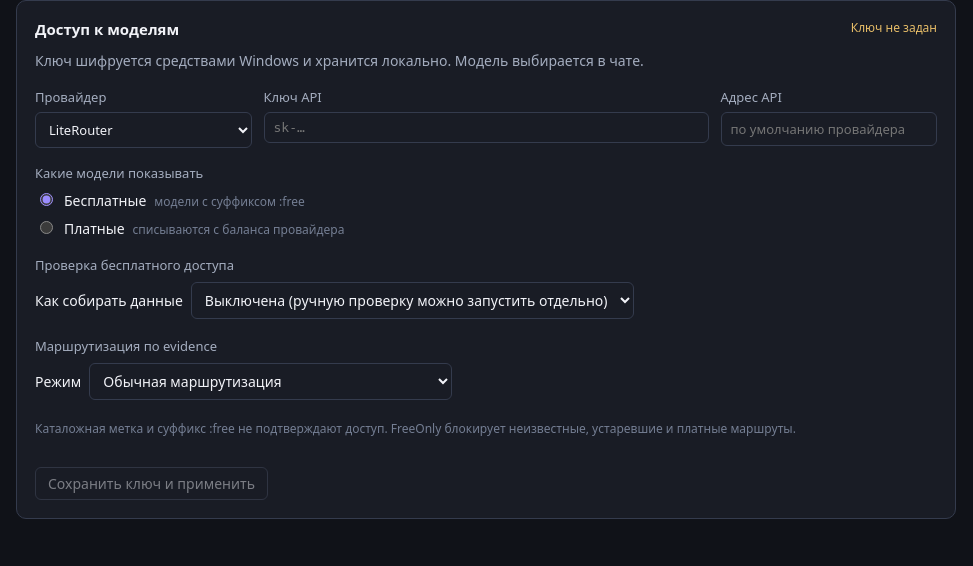
Test case: provider form › warns when the key was stored but Core did not come back
Type "sk-value" into the password field labelled "Ключ API". click: coordinates (486, 128)
box: [264,112,708,143]
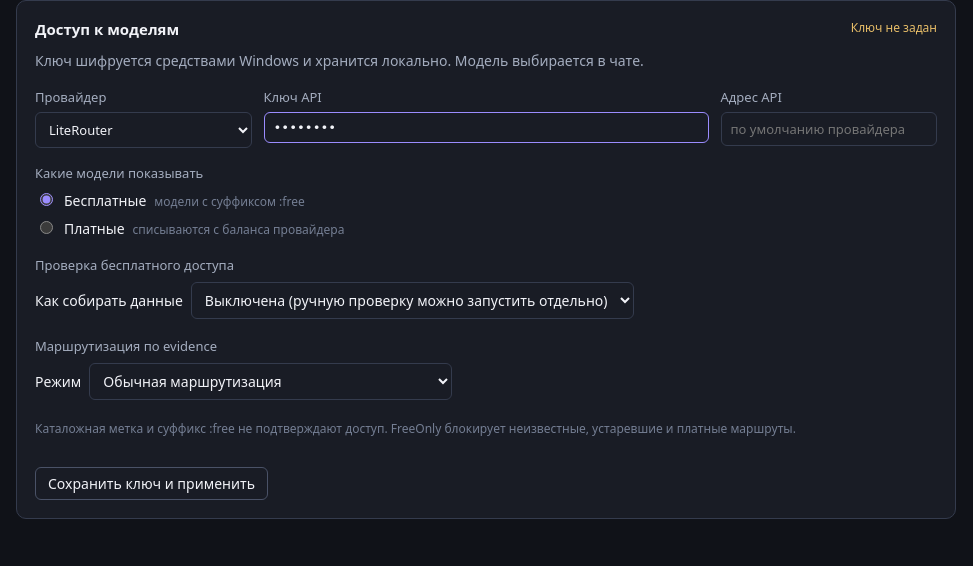
Click the button "Сохранить ключ и применить". click: coordinates (152, 484)
box: [35,467,268,500]
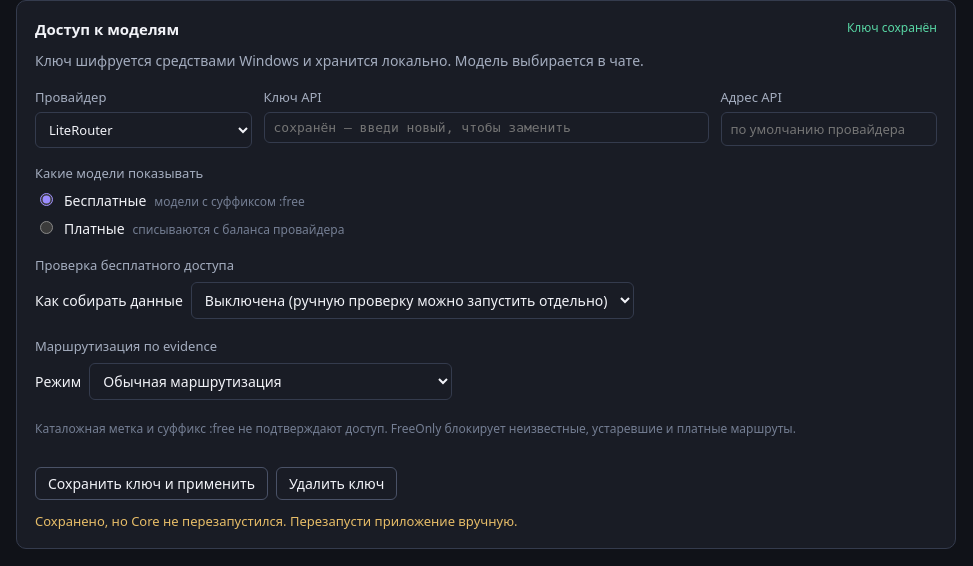
Check: the text "Core не перезапустился" is shown, box [35,512,518,530]
